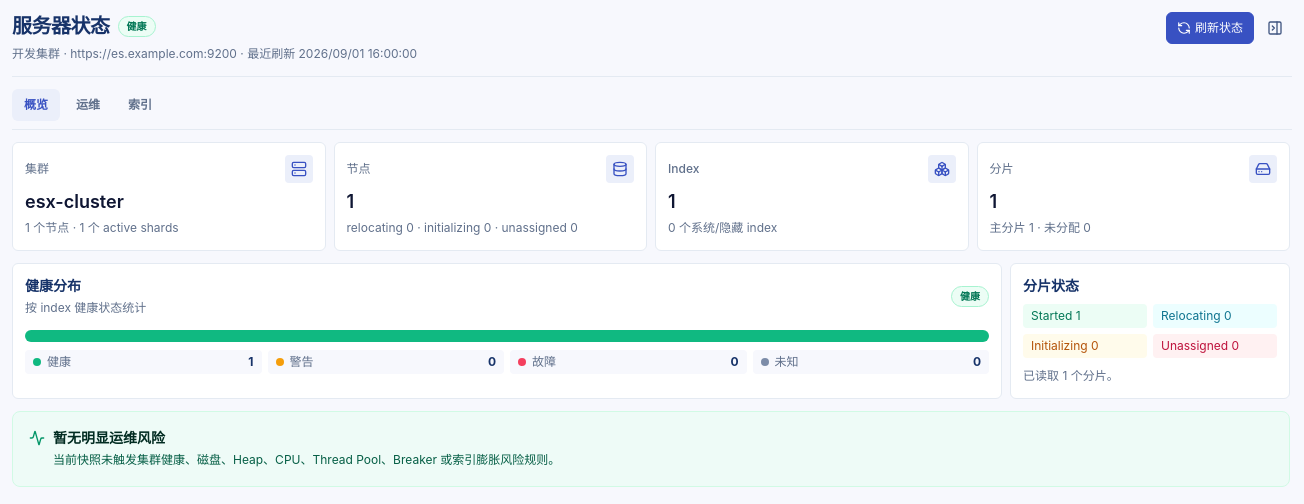
StatusPanel › 切到索引标签展示索引数据且不含 Shards 列
The width and height of the screenshot is (1304, 504).
Click the button "索引": (140, 105) [116,89,164,121]
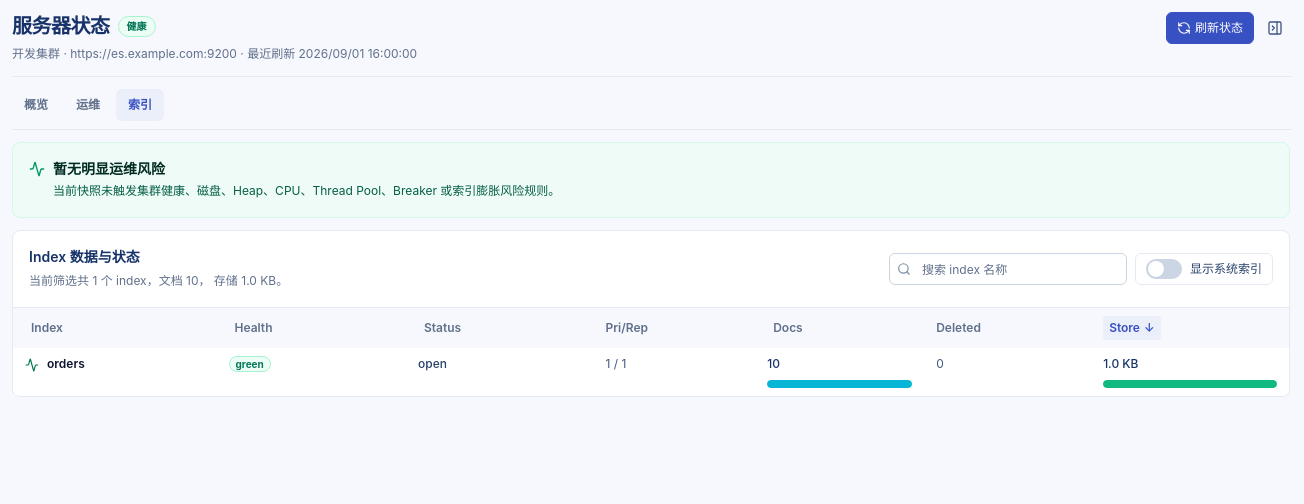
expect the text "orders" is shown: met, box [47,356,85,372]
expect the text "shards" is gone: met
